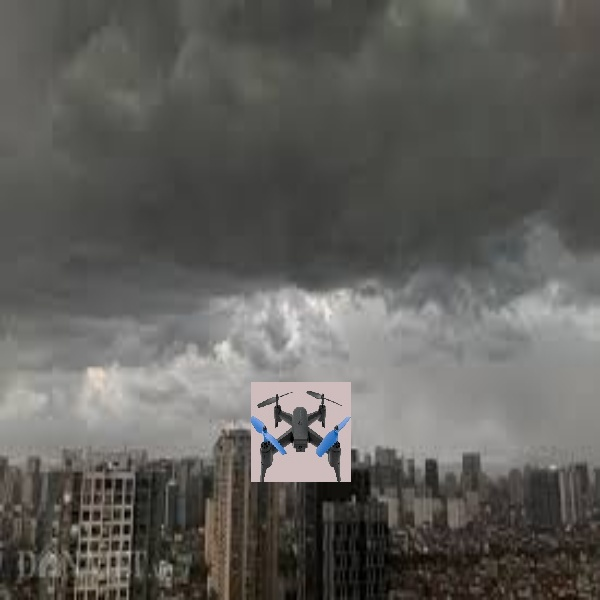drone: (253, 385, 355, 485)
